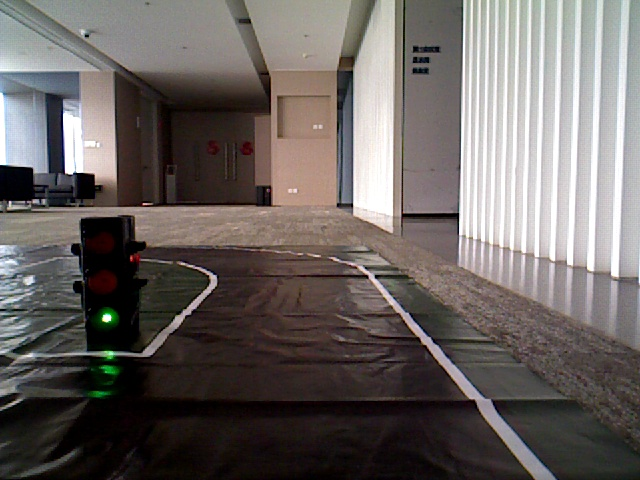green: (83, 219, 129, 337)
